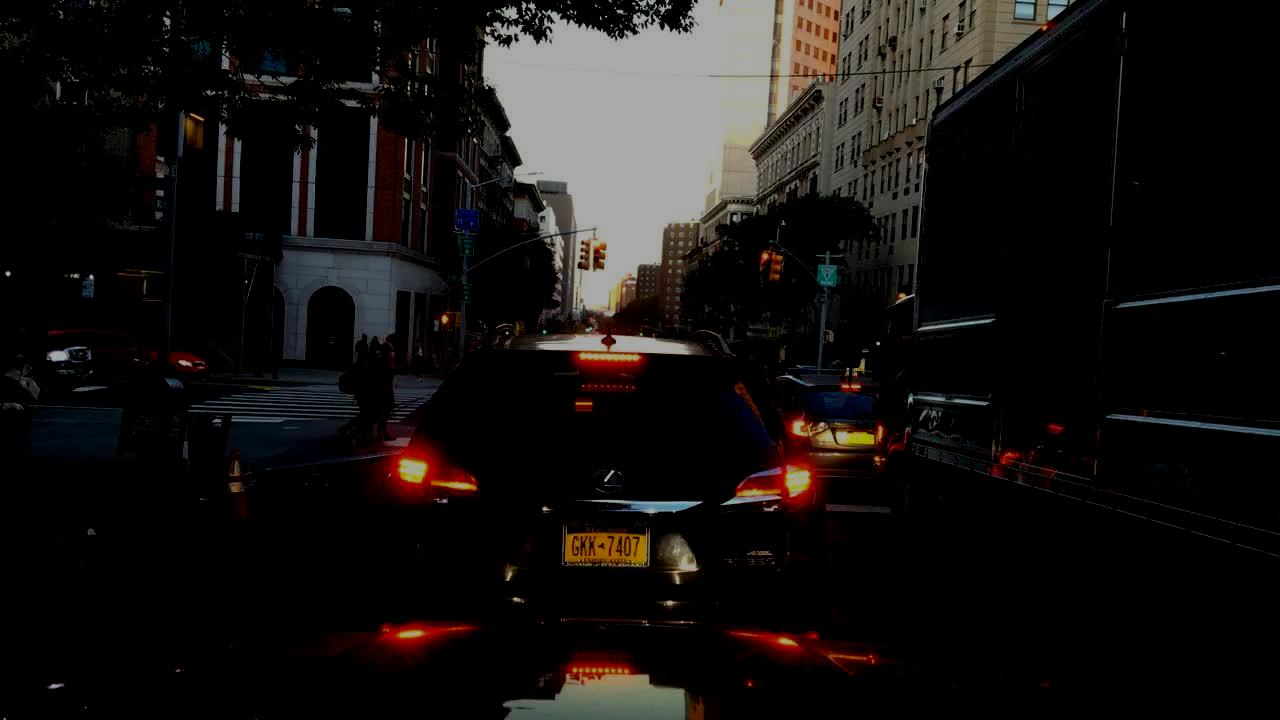lexus: (581, 462, 631, 506)
